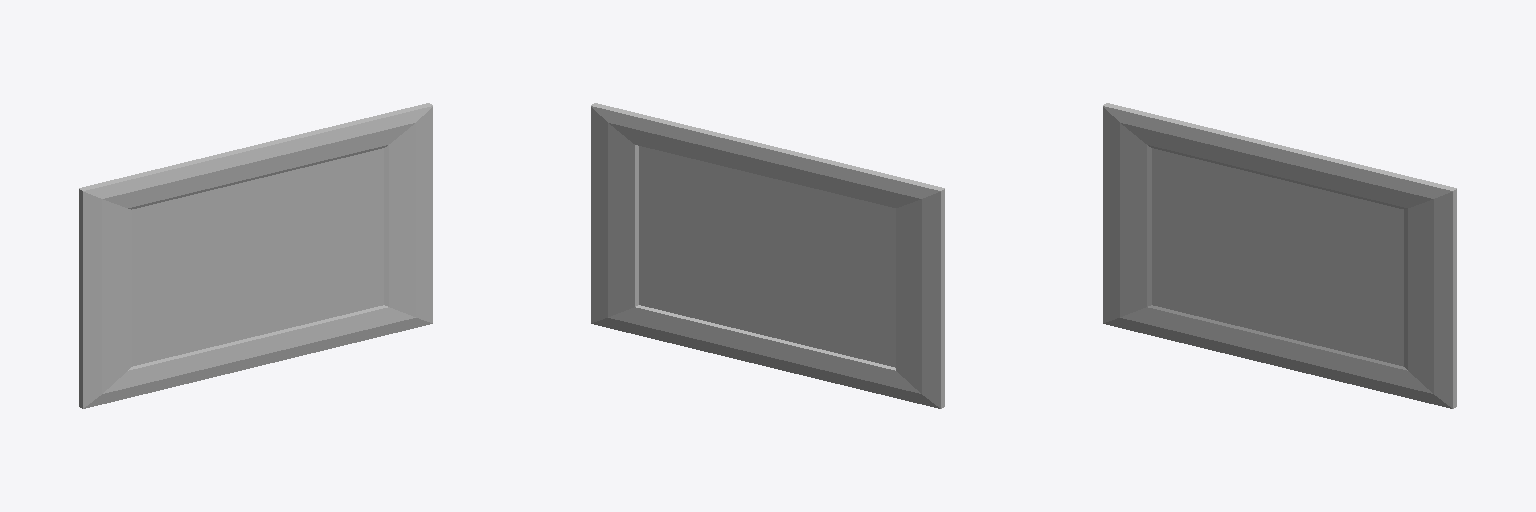
The model's file is painting_large.obj.
3 views of the same model, side by side, from view 1: azimuth 30°, elevation 25°; view 2: azimuth 150°, elevation 25°; view 3: azimuth 330°, elevation 25° (orthographic).
Parts seen in each view (by area): view 1: pCube6; view 2: pCube6; view 3: pCube6.
Boxes of the visible parts, x1,y1,x2,y2 form: pCube6: [79, 103, 432, 408]; pCube6: [591, 103, 944, 408]; pCube6: [1103, 103, 1456, 408].
Bounding box in the file's own units: 6.04 × 3.59 × 0.196.